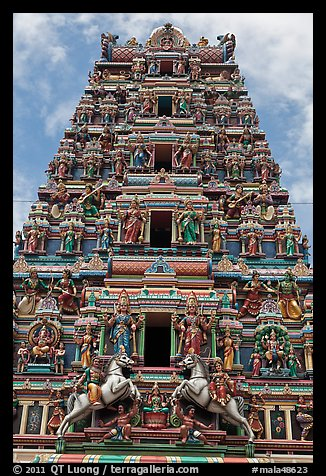Hindu Temple: (24, 21, 310, 468)
